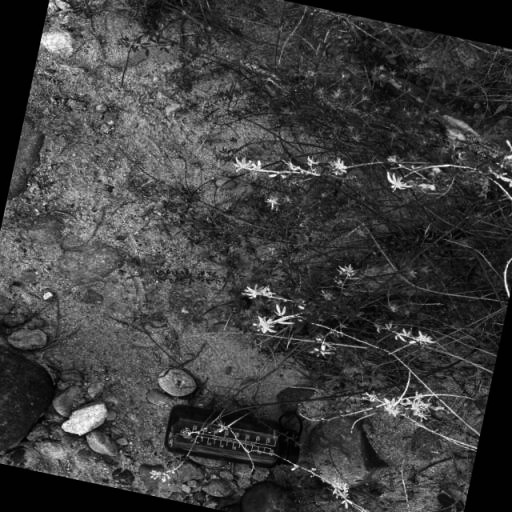bottle: (162, 386, 307, 478)
